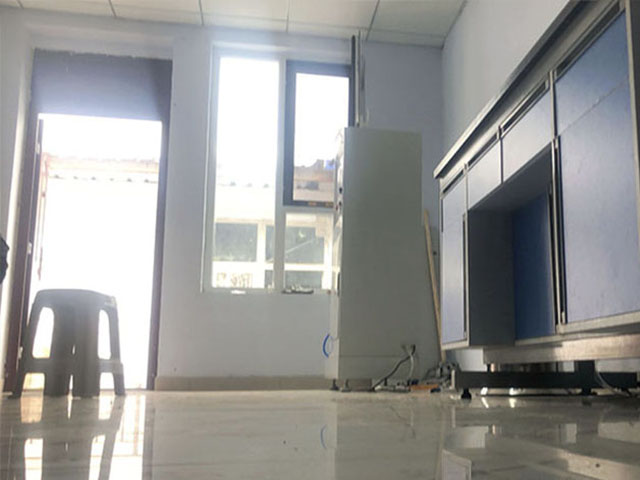cabinet: (431, 1, 640, 401)
stool: (11, 288, 129, 401)
wire: (356, 344, 419, 395)
